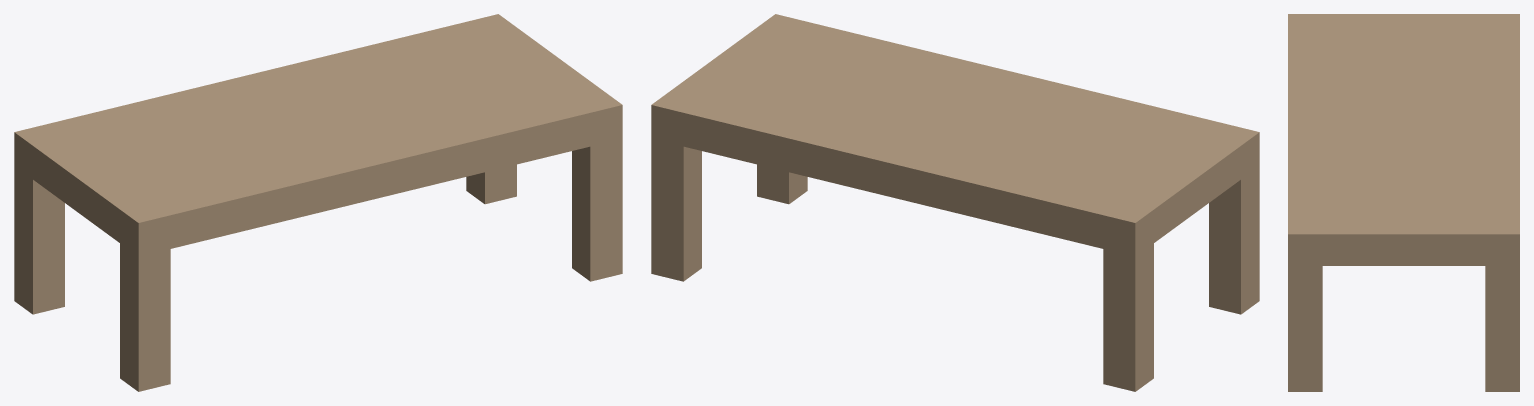
The model's file is Incredible Blorr-Hango.glb.
3 renders of one model, left to right at view 1: azimuth 30°, elevation 25°; view 2: azimuth 150°, elevation 25°; view 3: azimuth 270°, elevation 25°, orthographic. The views are drawn at different scales.
Parts seen in each view (by area): view 1: Mesh_Mesh_head_geo.001_lambert2SG.001; view 2: Mesh_Mesh_head_geo.001_lambert2SG.001; view 3: Mesh_Mesh_head_geo.001_lambert2SG.001.
Part boxes in pixels (<box>): Mesh_Mesh_head_geo.001_lambert2SG.001: <box>14,14,622,391</box>; Mesh_Mesh_head_geo.001_lambert2SG.001: <box>651,14,1259,391</box>; Mesh_Mesh_head_geo.001_lambert2SG.001: <box>1288,14,1519,391</box>.
Bounding box in the file's own units: 45 × 15 × 20.
